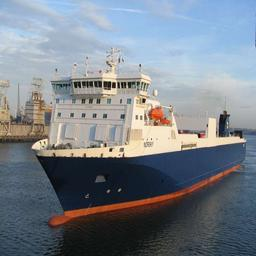Ship: (31, 44, 247, 229)
